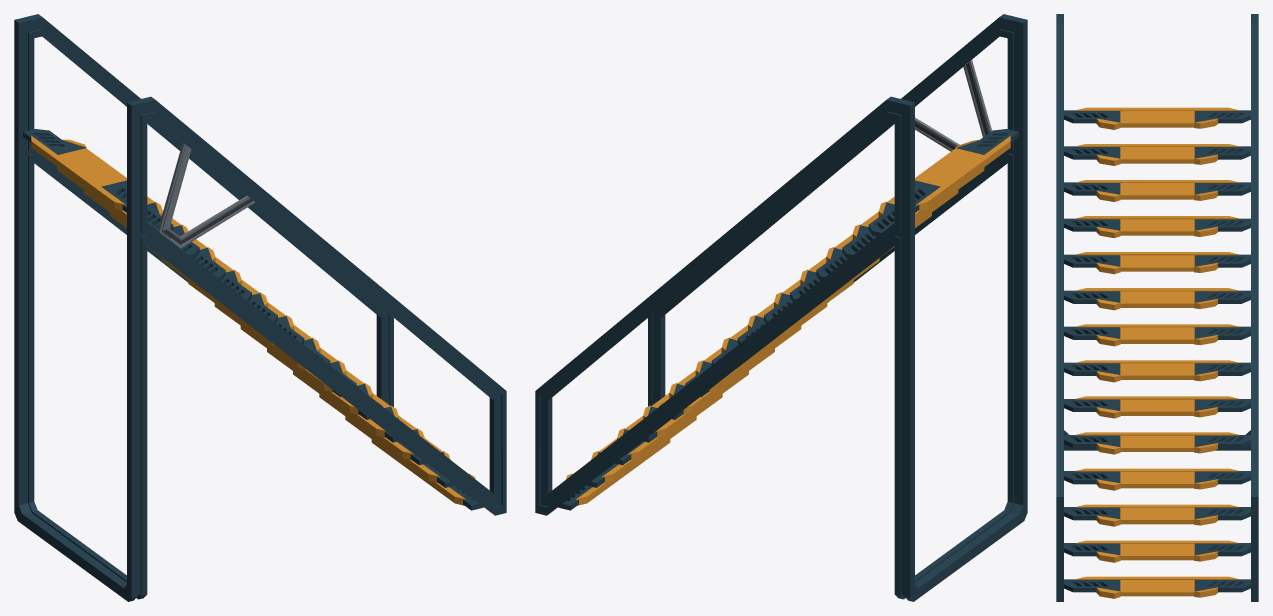
The model's file is SM_Stairs_4.glb.
3 views of the same model, side by side, from view 1: azimuth 30°, elevation 25°; view 2: azimuth 150°, elevation 25°; view 3: azimuth 270°, elevation 25° (orthographic). The views are drawn at different scales.
Parts seen in each view (by area): view 1: SM_Stairs_4; view 2: SM_Stairs_4; view 3: SM_Stairs_4.
Boxes of the visible parts, bbox=[...] form: SM_Stairs_4: bbox=[14, 14, 506, 601]; SM_Stairs_4: bbox=[535, 14, 1027, 601]; SM_Stairs_4: bbox=[1056, 14, 1258, 601].
Bounding box in the file's own units: 4.02 × 5.08 × 2.17.
1 material, 1 textured.
